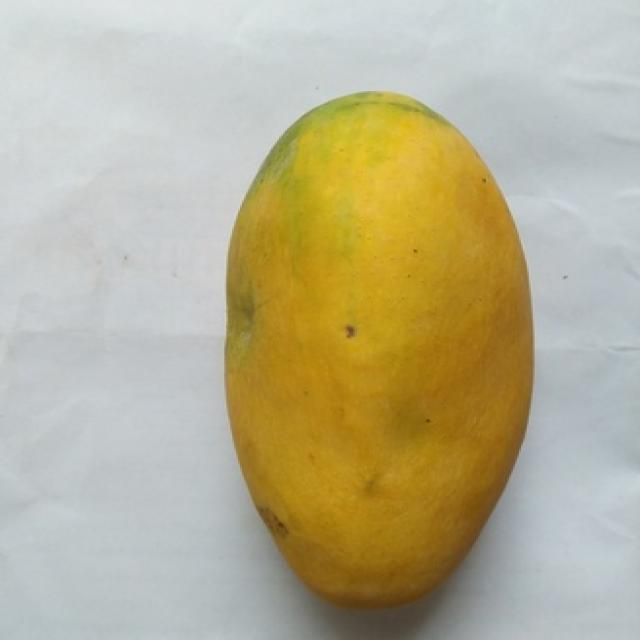Mango: (226, 93, 531, 605)
